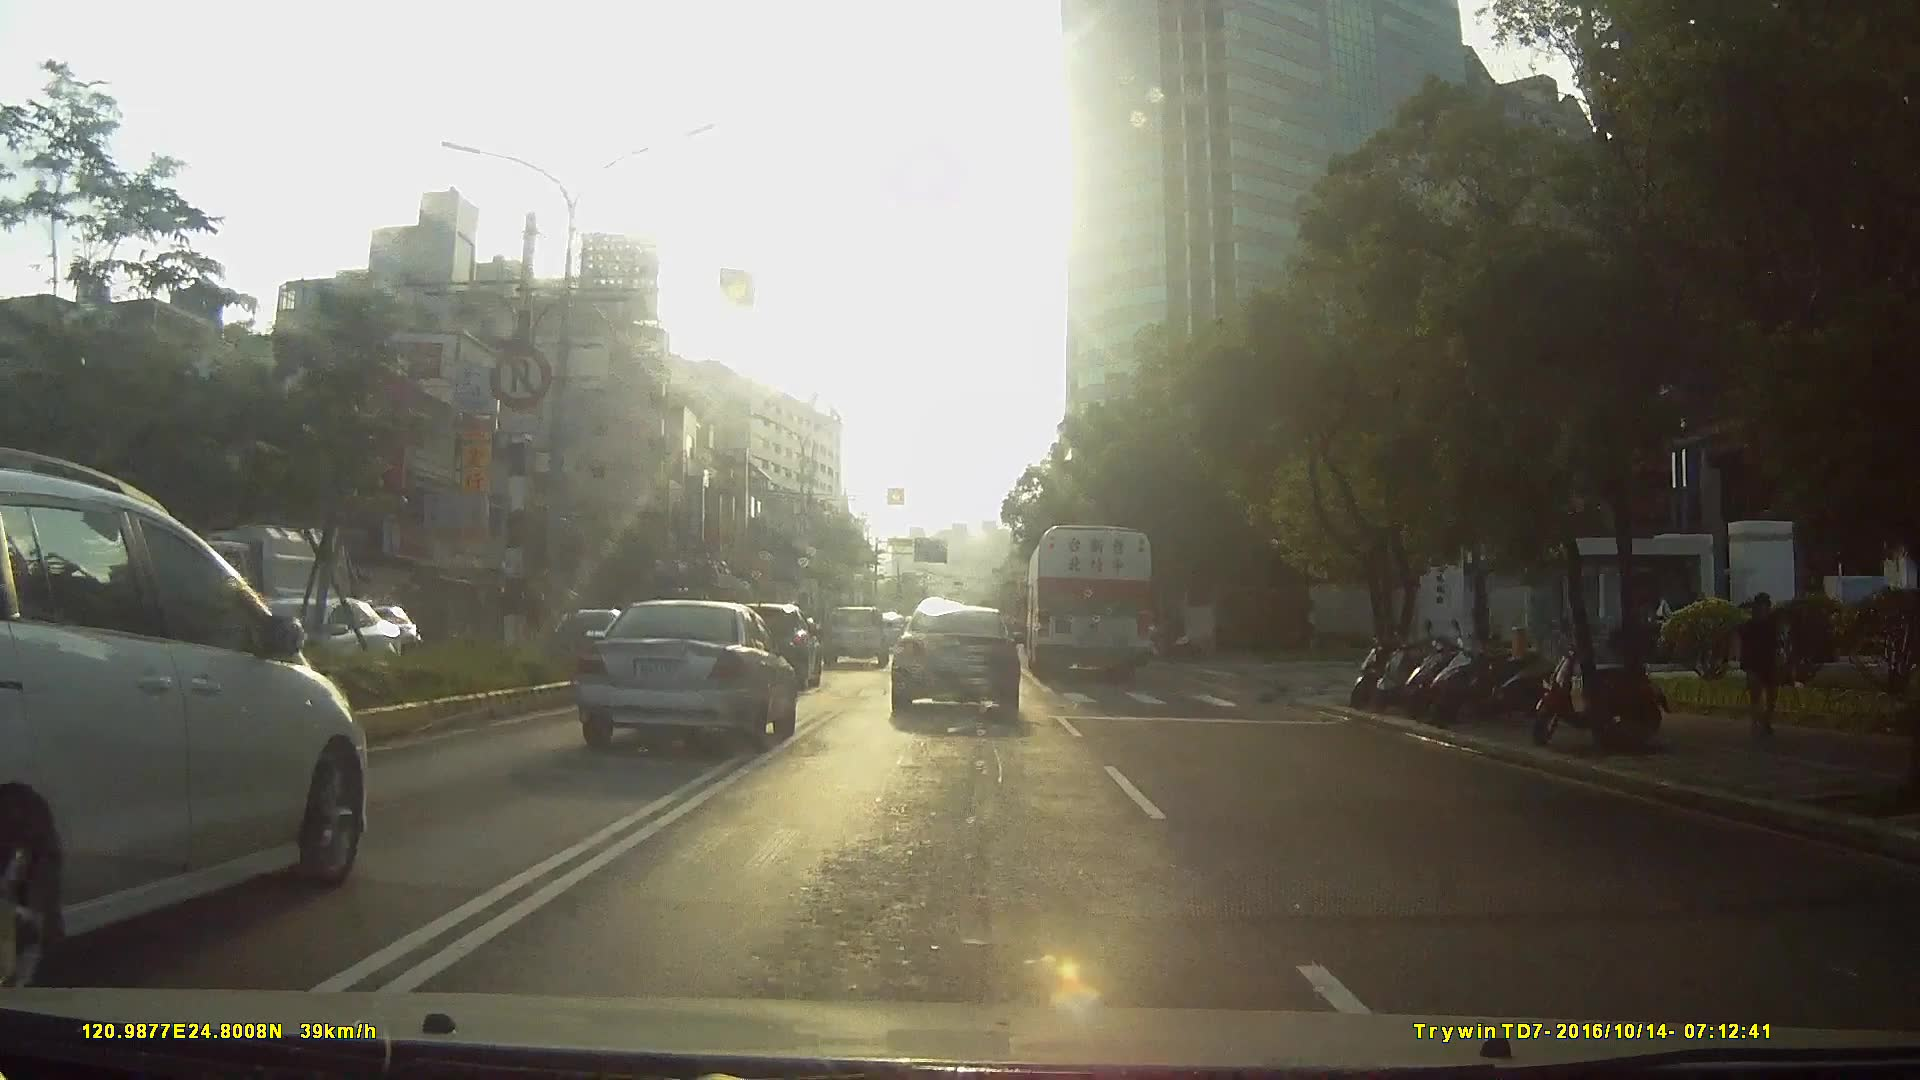pedestrian: (1736, 595, 1796, 740)
vehicle: (1, 455, 387, 975), (250, 556, 684, 868), (565, 596, 794, 752), (135, 517, 321, 643), (1023, 526, 1154, 689), (225, 598, 406, 706), (886, 600, 1020, 720), (821, 607, 889, 673)
